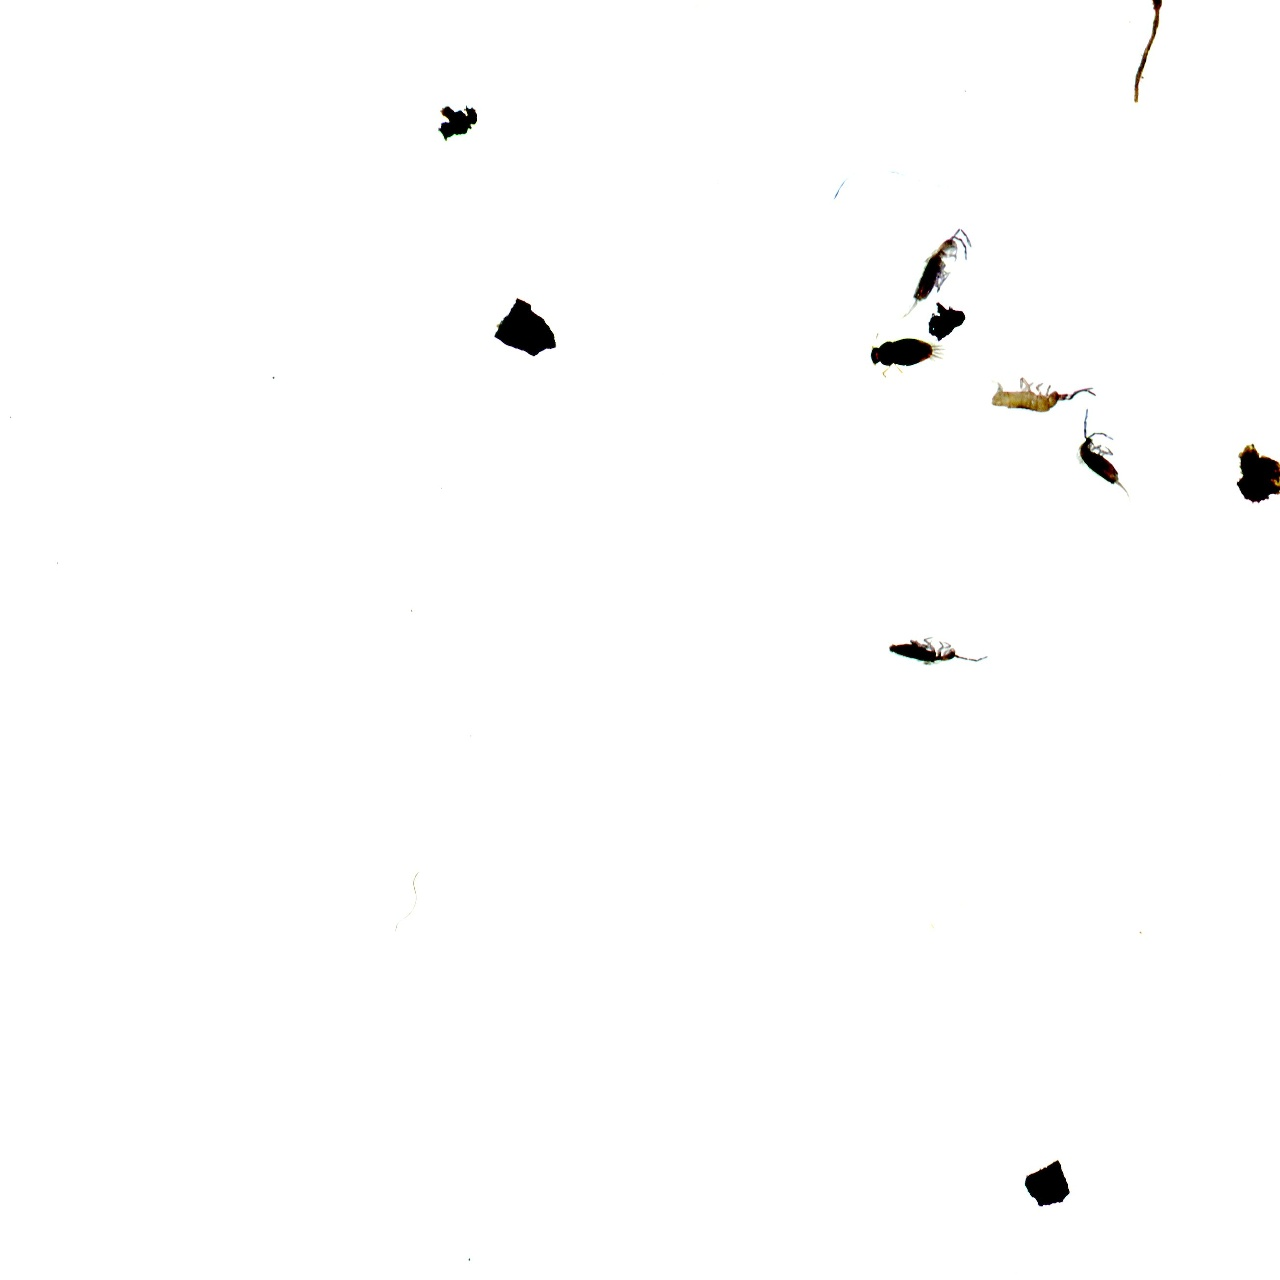arthropod: (894, 213, 983, 333), (1065, 403, 1139, 499), (978, 370, 1103, 417), (876, 628, 995, 669), (865, 328, 952, 384)
